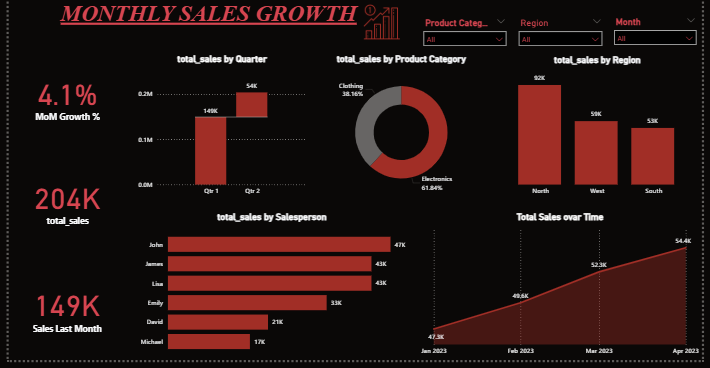

The dashboard page shown, as its layout file describes it:
{"tool":"powerbi","page":{"name":"Page 2","canvas":[1280,720],"ordinal":1},"visuals":[{"type":"columnChart","fields":{"Category":["Data.Region"],"Y":["Data.total_sales"]},"box":[894,156,386,270],"z":0},{"type":"donutChart","fields":{"Category":["Data.Product Category"],"Y":["Data.total_sales"]},"box":[570,154,310,272],"z":1000},{"type":"waterfallChart","fields":{"Y":["Data.total_sales"],"Category":["Data.Date.Variation.Date Hierarchy.Quarter"]},"box":[234,154,320,272],"z":2000},{"type":"areaChart","title":"Total Sales ovar Time","fields":{"Category":["Data.Date.Variation.Date Hierarchy.Year","Data.Date.Variation.Date Hierarchy.Quarter","Data.Date.Variation.Date Hierarchy.Month","Data.Date.Variation.Date Hierarchy.Day"],"Y":["Data.total_sales"]},"box":[755.7,445.7,524.3,274.3],"z":3000},{"type":"clusteredBarChart","fields":{"Category":["Data.Salesperson"],"Y":["Data.total_sales"]},"box":[234,446,504,274],"z":4000},{"type":"slicer","fields":{"Values":["Data.Date.Variation.Date Hierarchy.Month"]},"box":[1108.3,80,171.7,61.7],"z":5000},{"type":"slicer","fields":{"Values":["Data.Region"]},"box":[931,81,174,62],"z":6000},{"type":"slicer","fields":{"Values":["Data.Product Category"]},"box":[756.2,81.2,172.5,62.5],"z":7000},{"type":"textbox","box":[0,50,738.6,78.6],"z":8000},{"type":"card","fields":{"Values":["Data.MoM Growth %"]},"box":[0,138.6,217.1,190],"z":9000},{"type":"card","fields":{"Values":["Data.total_sales"]},"box":[0,328.6,217.1,194.3],"z":10000},{"type":"card","fields":{"Values":["Data.Sales Last Month"]},"box":[0,525.7,215.7,194.3],"z":11000},{"type":"image","box":[640,42,98,112],"z":12000}]}

Visuals, with their boxes on the page's 1280x720 design canvas (x1, y1, x2, y2). These are canvas units, not pixel positions in the 710x368 screenshot, which may show the page scaled, cropped or inside an application window:
columnChart - Data.Region x Data.total_sales: select_region(894, 156, 1280, 426)
donutChart - Data.Product Category x Data.total_sales: select_region(570, 154, 880, 426)
waterfallChart - Data.total_sales x Data.Date.Variation.Date Hierarchy.Quarter: select_region(234, 154, 554, 426)
"Total Sales ovar Time" areaChart: select_region(756, 446, 1280, 720)
clusteredBarChart - Data.Salesperson x Data.total_sales: select_region(234, 446, 738, 720)
slicer - Data.Date.Variation.Date Hierarchy.Month: select_region(1108, 80, 1280, 142)
slicer - Data.Region: select_region(931, 81, 1105, 143)
slicer - Data.Product Category: select_region(756, 81, 929, 144)
textbox: select_region(0, 50, 739, 129)
card - Data.MoM Growth %: select_region(0, 139, 217, 329)
card - Data.total_sales: select_region(0, 329, 217, 523)
card - Data.Sales Last Month: select_region(0, 526, 216, 720)
image: select_region(640, 42, 738, 154)
